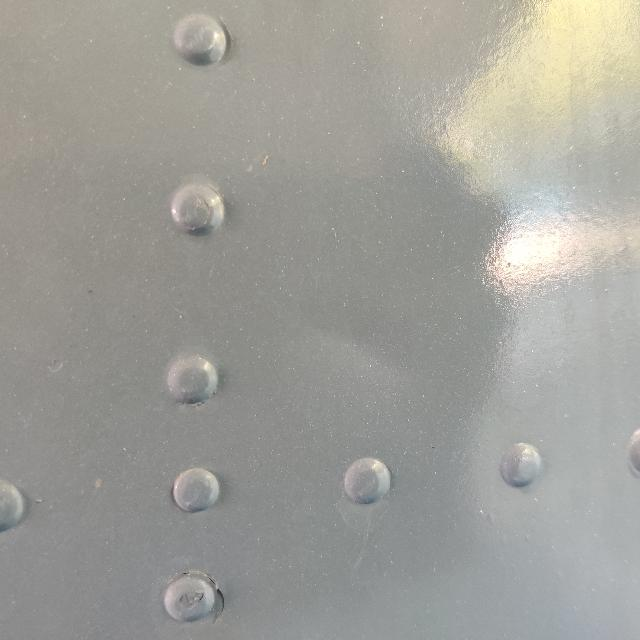dent: (296, 296, 434, 414)
